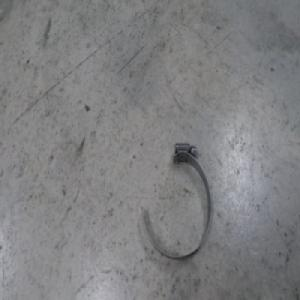AdjustableClamp: (139, 136, 211, 257)
